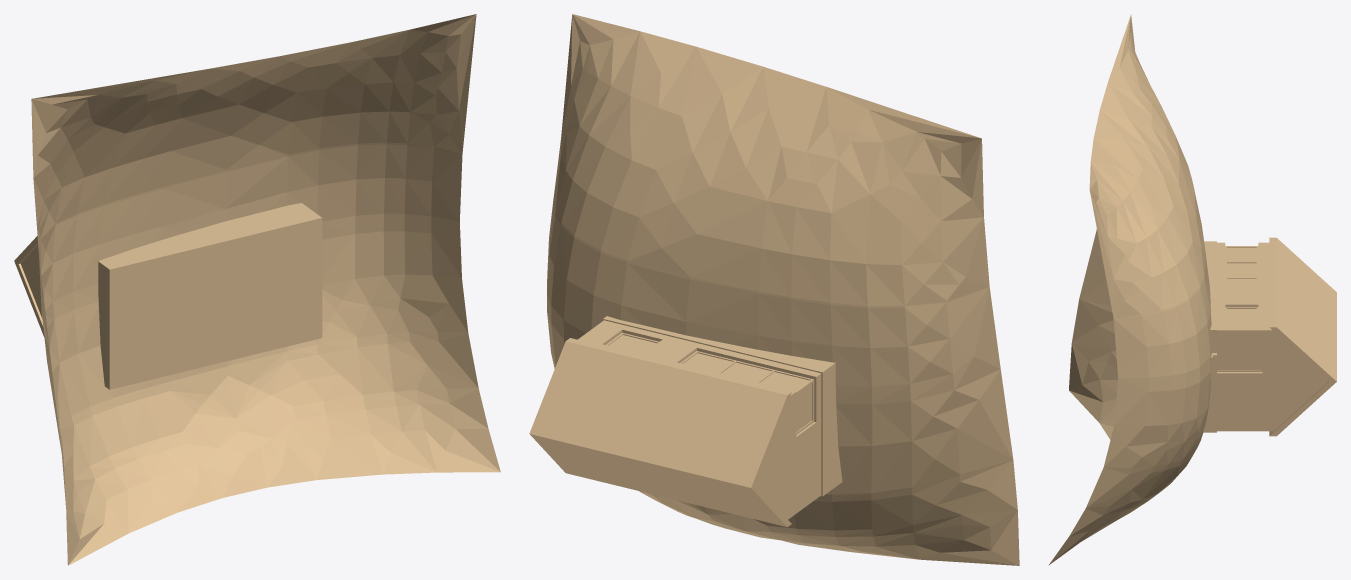
The model's file is IfcOpenHouse_IFC4.glb.
3 views of the same model, side by side, from view 1: azimuth 30°, elevation 25°; view 2: azimuth 150°, elevation 25°; view 3: azimuth 270°, elevation 25° (orthographic). The views are drawn at different scales.
Bounding box in the file's own units: 20 × 20 × 13.91.
